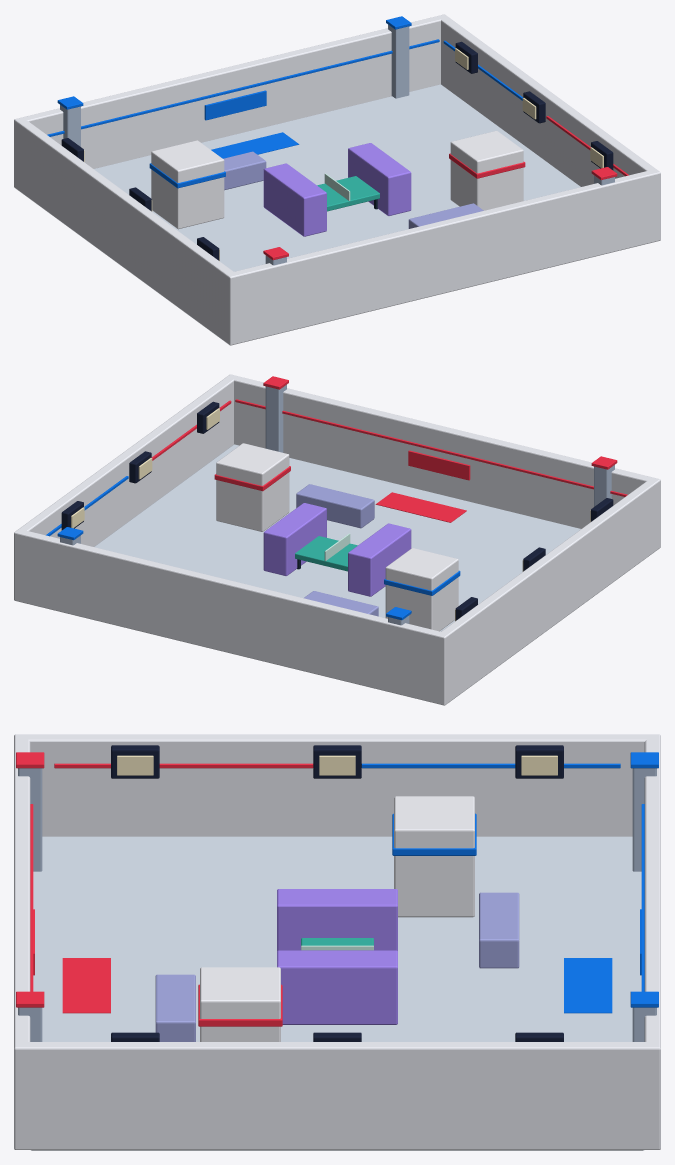
Rendered from Arena.glb.
The picture shows the model from 3 angles, top to bottom: view 1: azimuth 30°, elevation 25°; view 2: azimuth 150°, elevation 25°; view 3: azimuth 270°, elevation 25°; orthographic projection. The views are drawn at different scales.
Visible parts, largest first — view 1: Arena_PB_f5f7ff, Arena_PB_dbe5f3, Arena_PB_f6f7fe, Arena_PB_a98bff, Arena_PB_087bff, Arena_PB_b5c6df, Arena_PB_a6ace7, Arena_PB_18213d, Arena_PB_ff304b, Arena_PB_32bbaa, Arena_PB_fff4ce; view 2: Arena_PB_f5f7ff, Arena_PB_dbe5f3, Arena_PB_f6f7fe, Arena_PB_a98bff, Arena_PB_ff304b, Arena_PB_a6ace7, Arena_PB_b5c6df, Arena_PB_18213d, Arena_PB_087bff, Arena_PB_32bbaa, Arena_PB_fff4ce; view 3: Arena_PB_f5f7ff, Arena_PB_dbe5f3, Arena_PB_a98bff, Arena_PB_f6f7fe, Arena_PB_ff304b, Arena_PB_087bff, Arena_PB_a6ace7, Arena_PB_18213d, Arena_PB_b5c6df, Arena_PB_fff4ce.
Part boxes in pixels (left/top/right/bottom): Arena_PB_f5f7ff: left=14, top=14, right=660, bottom=345; Arena_PB_dbe5f3: left=94, top=84, right=580, bottom=271; Arena_PB_f6f7fe: left=151, top=130, right=523, bottom=229; Arena_PB_a98bff: left=263, top=143, right=411, bottom=236; Arena_PB_087bff: left=47, top=16, right=523, bottom=188; Arena_PB_b5c6df: left=60, top=24, right=614, bottom=265; Arena_PB_a6ace7: left=223, top=151, right=483, bottom=228; Arena_PB_18213d: left=61, top=41, right=613, bottom=260; Arena_PB_ff304b: left=263, top=116, right=628, bottom=260; Arena_PB_32bbaa: left=317, top=176, right=379, bottom=211; Arena_PB_fff4ce: left=84, top=48, right=603, bottom=261; Arena_PB_f5f7ff: left=14, top=374, right=660, bottom=705; Arena_PB_dbe5f3: left=94, top=444, right=580, bottom=631; Arena_PB_f6f7fe: left=216, top=443, right=458, bottom=631; Arena_PB_a98bff: left=263, top=503, right=411, bottom=596; Arena_PB_ff304b: left=151, top=376, right=627, bottom=522; Arena_PB_a6ace7: left=296, top=484, right=378, bottom=616; Arena_PB_b5c6df: left=60, top=384, right=614, bottom=625; Arena_PB_18213d: left=61, top=401, right=613, bottom=620; Arena_PB_087bff: left=46, top=476, right=460, bottom=620; Arena_PB_32bbaa: left=295, top=536, right=357, bottom=571; Arena_PB_fff4ce: left=71, top=408, right=590, bottom=621; Arena_PB_f5f7ff: left=14, top=734, right=660, bottom=1149; Arena_PB_dbe5f3: left=31, top=836, right=643, bottom=1150; Arena_PB_a98bff: left=277, top=889, right=397, bottom=1024; Arena_PB_f6f7fe: left=200, top=796, right=474, bottom=1041; Arena_PB_ff304b: left=16, top=752, right=313, bottom=1026; Arena_PB_087bff: left=361, top=752, right=658, bottom=1013; Arena_PB_a6ace7: left=155, top=892, right=519, bottom=1041; Arena_PB_18213d: left=111, top=745, right=563, bottom=1041; Arena_PB_b5c6df: left=18, top=768, right=656, bottom=1041; Arena_PB_fff4ce: left=117, top=755, right=557, bottom=775.
Size of the model in its own units: 25.76 by 4.7 by 22.4.
